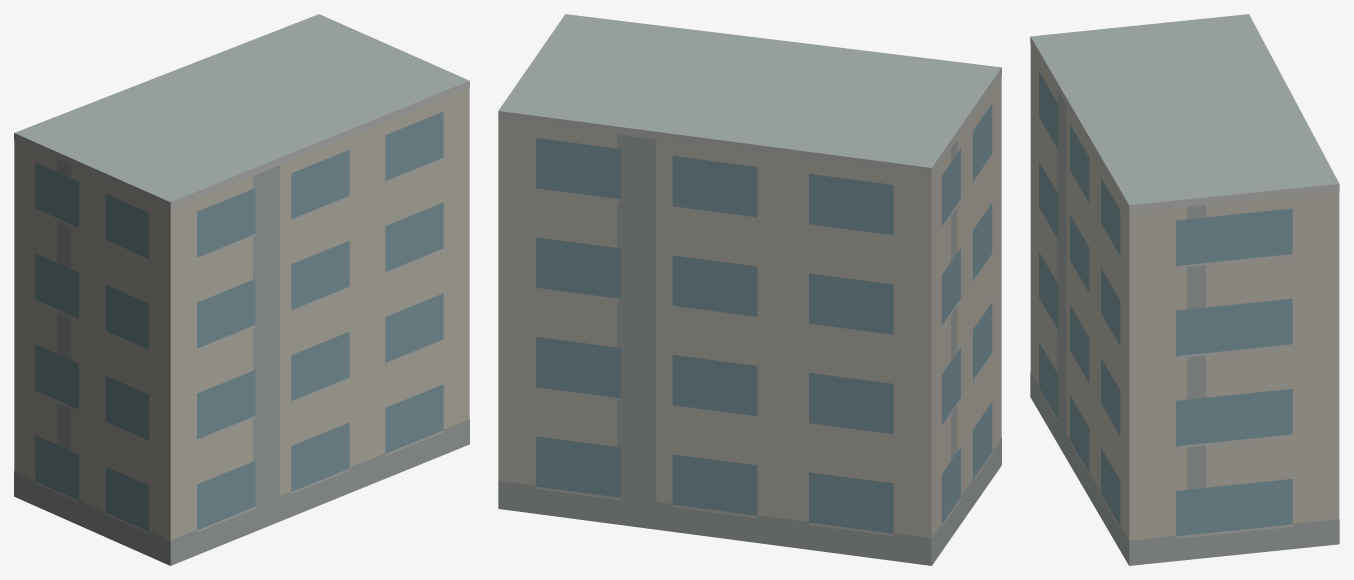
The model's file is residential-b1e5d940-8f17-4efd-ac57-da0b648d9139.glb.
The picture shows the model from 3 angles, left to right: view 1: azimuth 30°, elevation 25°; view 2: azimuth 150°, elevation 25°; view 3: azimuth 270°, elevation 25°; orthographic projection. The views are drawn at different scales.
Parts seen in each view (by area): view 1: residential-b1e5d940-8f17-4efd-ac57-da0b648d9139.tmp; view 2: residential-b1e5d940-8f17-4efd-ac57-da0b648d9139.tmp; view 3: residential-b1e5d940-8f17-4efd-ac57-da0b648d9139.tmp.
Part boxes in pixels (box(x1,y1,x2,y2)): residential-b1e5d940-8f17-4efd-ac57-da0b648d9139.tmp: box(14, 14, 469, 565); residential-b1e5d940-8f17-4efd-ac57-da0b648d9139.tmp: box(498, 14, 1001, 565); residential-b1e5d940-8f17-4efd-ac57-da0b648d9139.tmp: box(1030, 14, 1339, 565).
Size of the model in its own units: 13.89 by 12.2 by 9.48.
